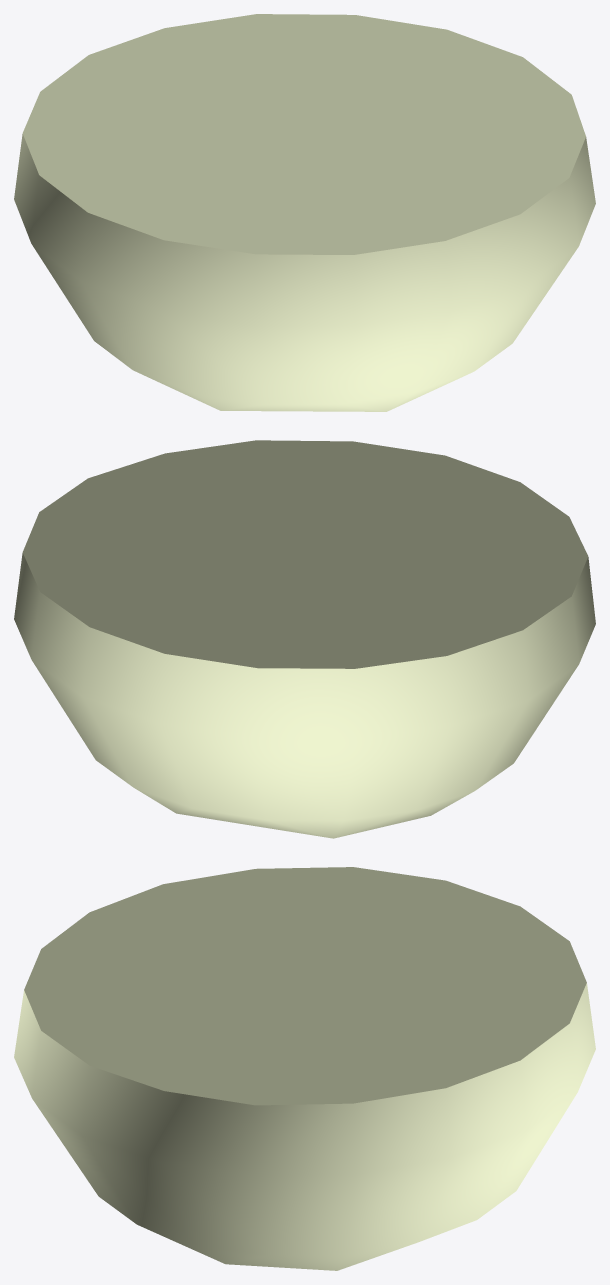
Rendered from FP_orange_half.FBX.
3 renders of one model, top to bottom at view 1: azimuth 30°, elevation 25°; view 2: azimuth 150°, elevation 25°; view 3: azimuth 270°, elevation 25°, orthographic.
Visible parts, largest first — view 1: FP_orange_half; view 2: FP_orange_half; view 3: FP_orange_half.
Part boxes in pixels (x1=…): FP_orange_half: x1=14, y1=14, x2=595, y2=411; FP_orange_half: x1=14, y1=440, x2=595, y2=838; FP_orange_half: x1=14, y1=867, x2=595, y2=1270.
Bounding box in the file's own units: 0.0572 × 0.0252 × 0.0578.
